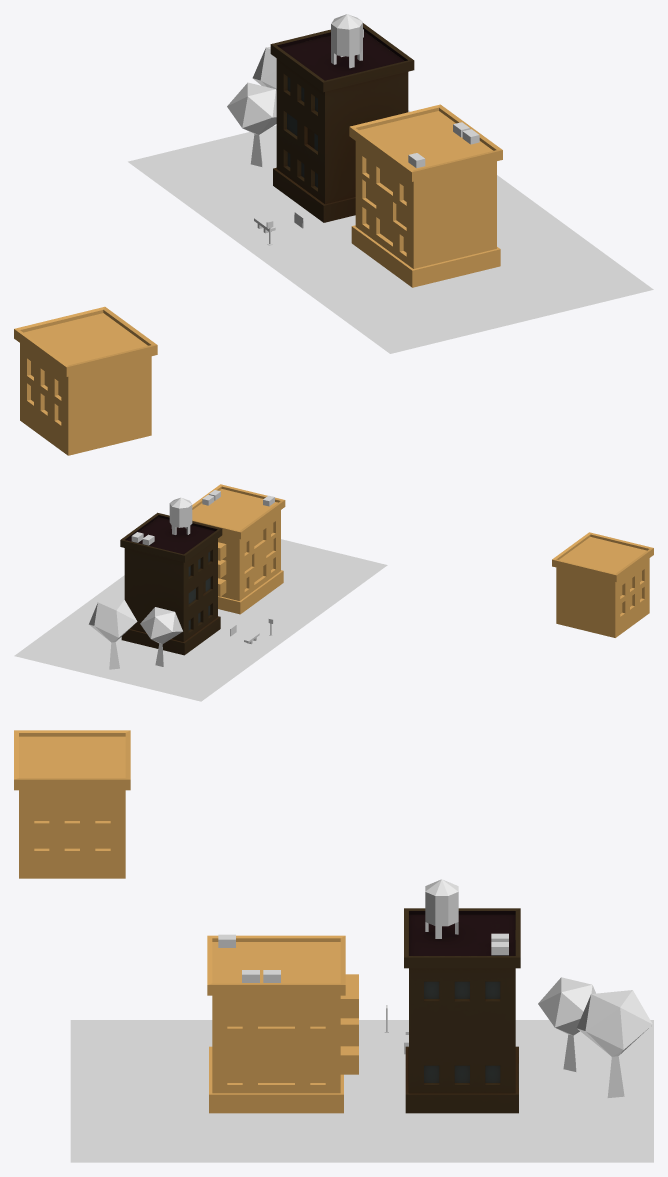
File: city_test_baked.glb
The picture shows the model from 3 angles, top to bottom: view 1: azimuth 30°, elevation 25°; view 2: azimuth 150°, elevation 25°; view 3: azimuth 270°, elevation 25°; orthographic projection. The views are drawn at different scales.
Parts seen in each view (by area): view 1: ground, building, building.001, Cube, tree, on_the_roof.005, tree.001; view 2: ground, building.001, Cube, building, tree.001, tree, on_the_roof.005; view 3: ground, building, building.001, Cube, tree.001, tree, on_the_roof.005.
Part boxes in pixels (box(x1,y1,x2,y2)): ground: box(128, 110, 653, 353); building: box(349, 104, 502, 287); building.001: box(270, 23, 414, 222); Cube: box(14, 306, 157, 455); tree: box(227, 82, 276, 166); on_the_roof.005: box(331, 14, 362, 68); tree.001: box(252, 47, 276, 89); ground: box(14, 539, 387, 701); building.001: box(120, 512, 222, 655); Cube: box(552, 532, 653, 637); building: box(192, 484, 285, 614); tree.001: box(88, 599, 137, 669); tree: box(140, 607, 182, 666); on_the_roof.005: box(169, 497, 192, 534); ground: box(70, 1020, 653, 1162); building: box(207, 935, 358, 1113); building.001: box(404, 908, 520, 1113); Cube: box(14, 730, 130, 878); tree.001: box(577, 990, 652, 1097); tree: box(538, 977, 595, 1071); on_the_roof.005: box(425, 879, 458, 938).
Bounding box in the file's own units: 14.71 × 4.3 × 11.98.
2 materials, 1 textured.
